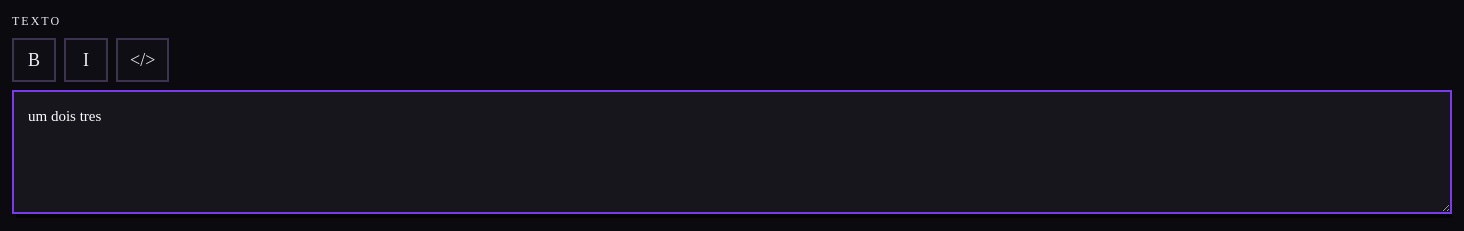
Scenario: AreaDeTexto: barra de Markdown › Itálico envolve a seleção e mantém o texto selecionado
This screenshot has width=1464, height=231.
Click the button named "Itálico" at (86, 60), box [64,38,108,82]
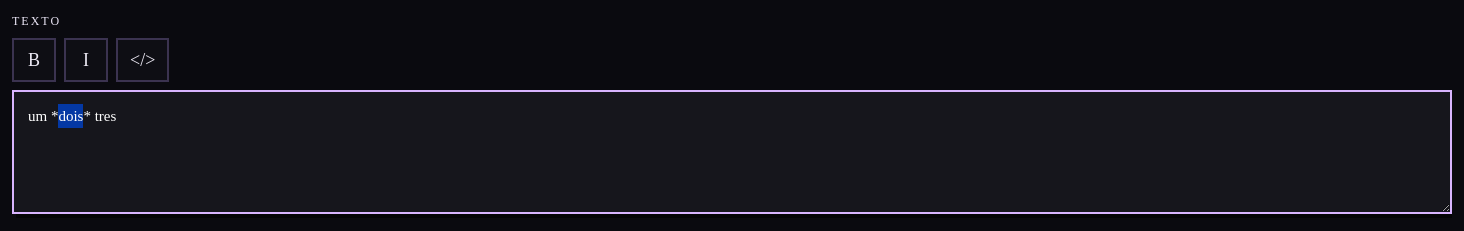
Expected: the text box labelled "TEXTO" holds "um *dois* tres", [12,90,1452,214]
